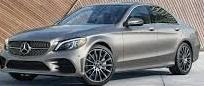Cars: (1, 4, 200, 86)
